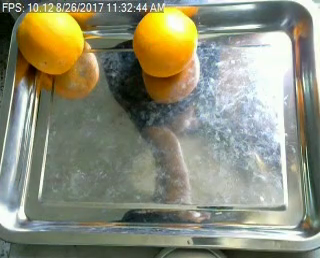Orange: (132, 7, 199, 78), (17, 6, 85, 74)
